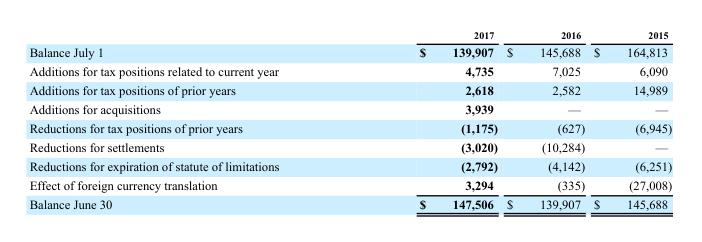table: (28, 28, 671, 210)
table column: (28, 28, 348, 210), (348, 28, 501, 210), (501, 28, 588, 210), (588, 28, 671, 210)
table column header: (28, 28, 671, 42)
table row: (28, 42, 671, 61), (28, 61, 671, 80), (28, 80, 671, 99), (28, 99, 671, 118), (28, 118, 671, 137), (28, 137, 671, 156), (28, 156, 671, 175), (28, 175, 671, 194), (28, 194, 671, 210), (28, 28, 671, 42)
